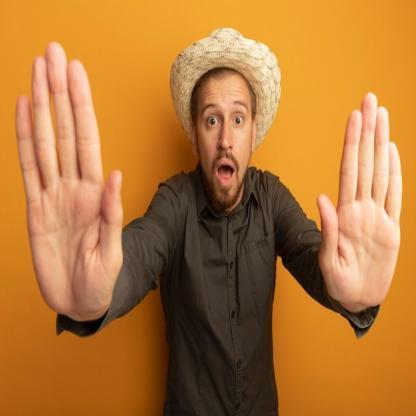stop: (15, 37, 126, 326), (313, 85, 405, 312)
